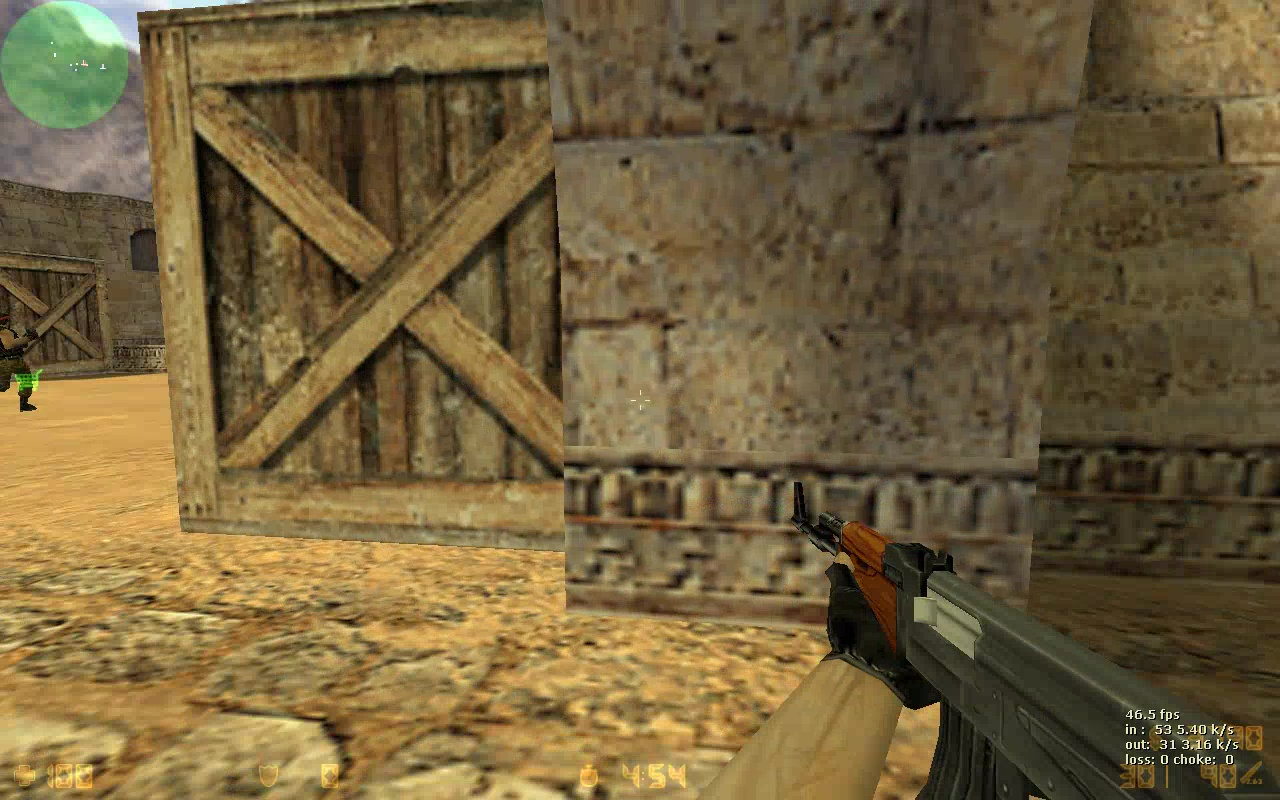terr1: (1, 314, 40, 411)
